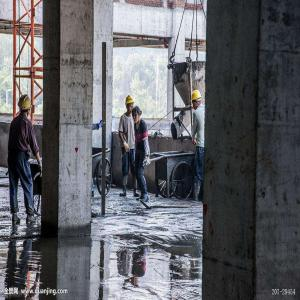none: (132, 106, 141, 126)
yellow: (19, 95, 32, 120), (190, 88, 203, 110), (125, 94, 136, 114)
